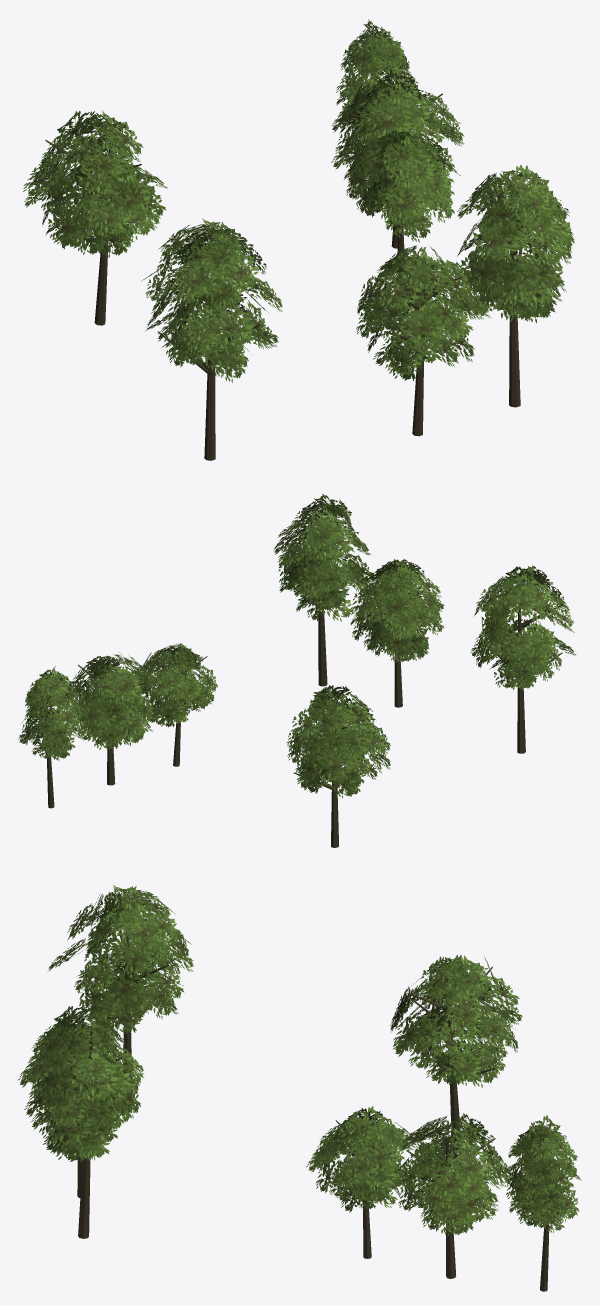
The model's file is TRB8-FOREST-CHUNK-7-4.glb.
3 views of the same model, one above another, from view 1: azimuth 30°, elevation 25°; view 2: azimuth 150°, elevation 25°; view 3: azimuth 270°, elevation 25° (orthographic). The views are drawn at different scales.
Visible parts, largest first — view 1: TRB8-FOREST-CHUNK-7-4; view 2: TRB8-FOREST-CHUNK-7-4; view 3: TRB8-FOREST-CHUNK-7-4.
Part boxes in pixels (box(x1,y1,x2,y2)): TRB8-FOREST-CHUNK-7-4: box(23, 19, 574, 460); TRB8-FOREST-CHUNK-7-4: box(18, 494, 575, 847); TRB8-FOREST-CHUNK-7-4: box(17, 885, 581, 1291).
Size of the model in its own units: 12.78 by 6.3 by 13.67.
Materials: 2 (1 with a texture image).
